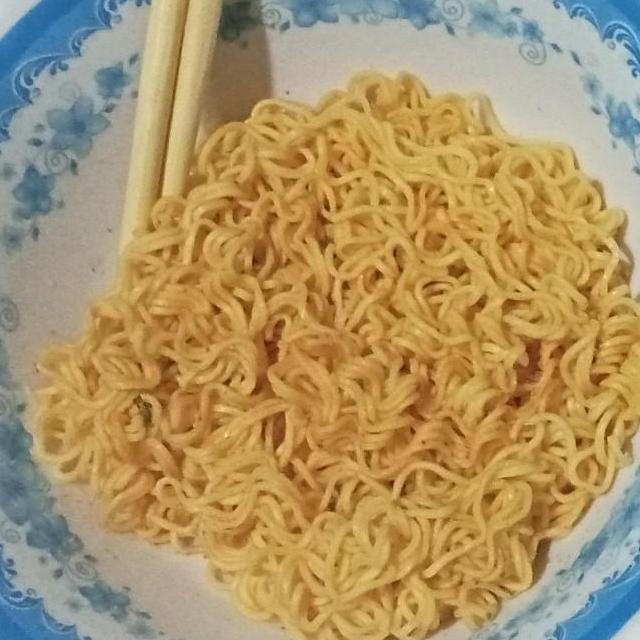mi: (9, 65, 640, 640)
